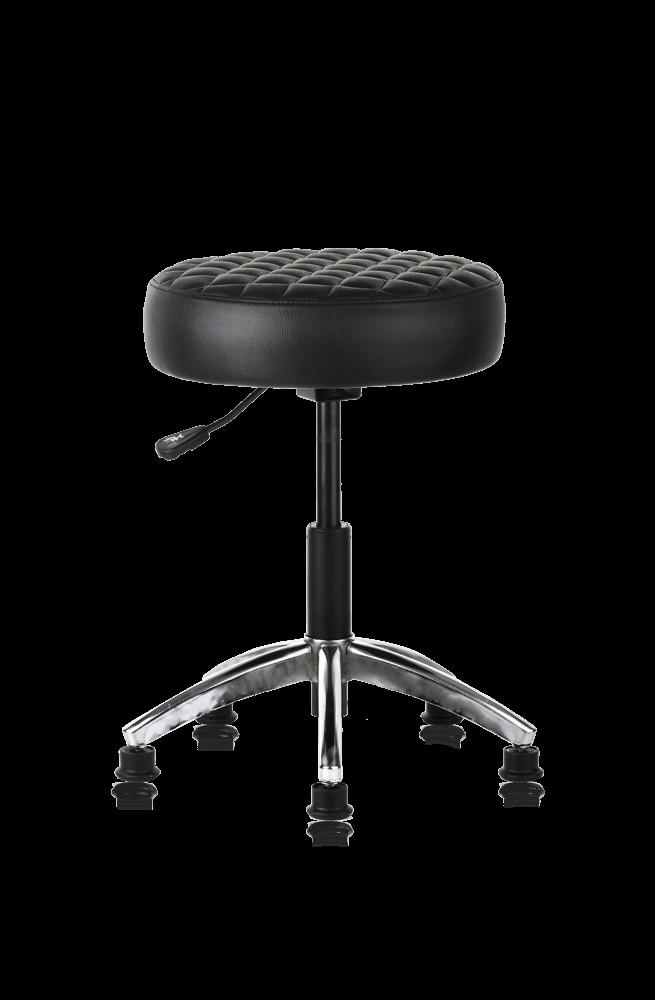stool: (110, 244, 546, 846)
